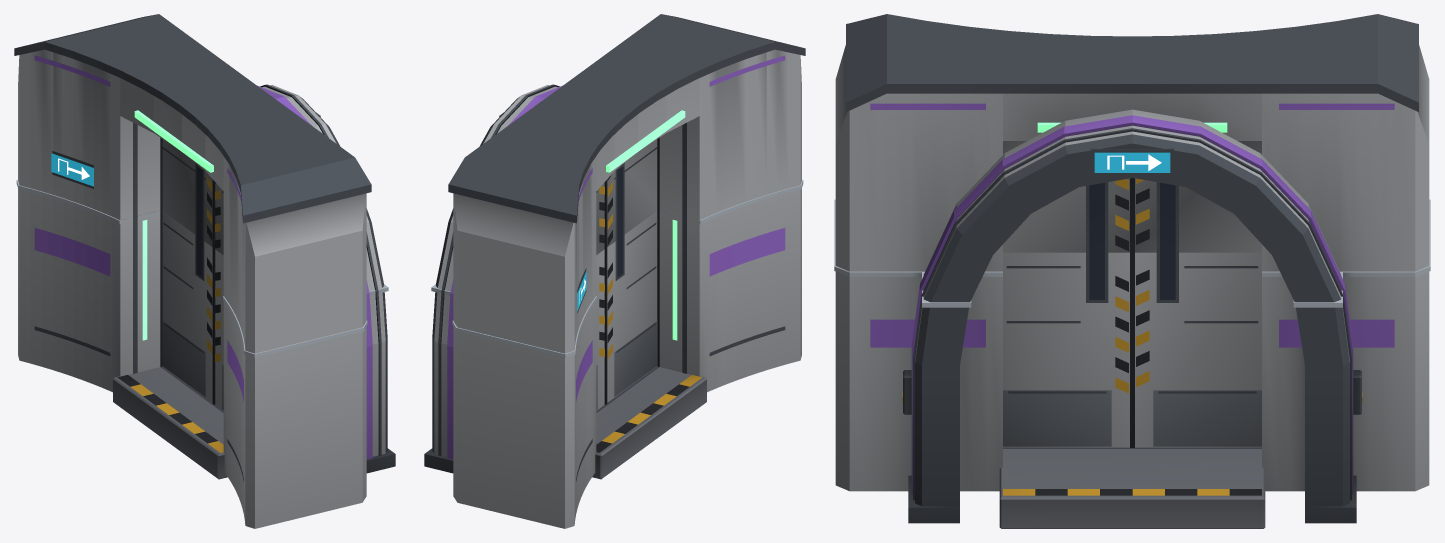
File: doorway_flat_r400.glb
3 views of the same model, side by side, from view 1: azimuth 30°, elevation 25°; view 2: azimuth 150°, elevation 25°; view 3: azimuth 270°, elevation 25° (orthographic). The views are drawn at different scales.
Visible parts, largest first — view 1: FrameTop, Frame, DoorR, DoorRTop, DoorL, FrameCap, Sign, Status, DoorLTop, Lights; view 2: FrameTop, Frame, DoorL, DoorLTop, DoorR, FrameCap, Status, DoorRTop, Lights; view 3: FrameTop, Frame, DoorL, DoorR, DoorLTop, DoorRTop, Sign, FrameCap.
Part boxes in pixels (x1,y1,x2,y2): FrameTop: [14, 14, 383, 353]; Frame: [18, 188, 395, 528]; DoorR: [162, 211, 213, 403]; DoorRTop: [162, 139, 213, 248]; DoorL: [213, 249, 223, 410]; FrameCap: [16, 180, 388, 357]; Sign: [51, 112, 320, 188]; Status: [134, 110, 213, 172]; DoorLTop: [213, 181, 223, 254]; Lights: [142, 220, 147, 340]; FrameTop: [436, 14, 805, 353]; Frame: [424, 188, 801, 528]; DoorL: [606, 211, 657, 403]; DoorLTop: [606, 139, 657, 248]; DoorR: [596, 249, 606, 410]; FrameCap: [431, 180, 803, 357]; Status: [606, 110, 685, 172]; DoorRTop: [596, 181, 606, 254]; Lights: [672, 220, 677, 340]; FrameTop: [835, 14, 1429, 302]; Frame: [835, 272, 1429, 528]; DoorL: [1003, 252, 1132, 447]; DoorR: [1132, 252, 1261, 447]; DoorLTop: [1003, 141, 1132, 252]; DoorRTop: [1132, 141, 1261, 252]; Sign: [1091, 148, 1173, 175]; FrameCap: [834, 199, 1430, 307].
Bounding box in the file's own units: 1.49 × 2.67 × 3.46.
